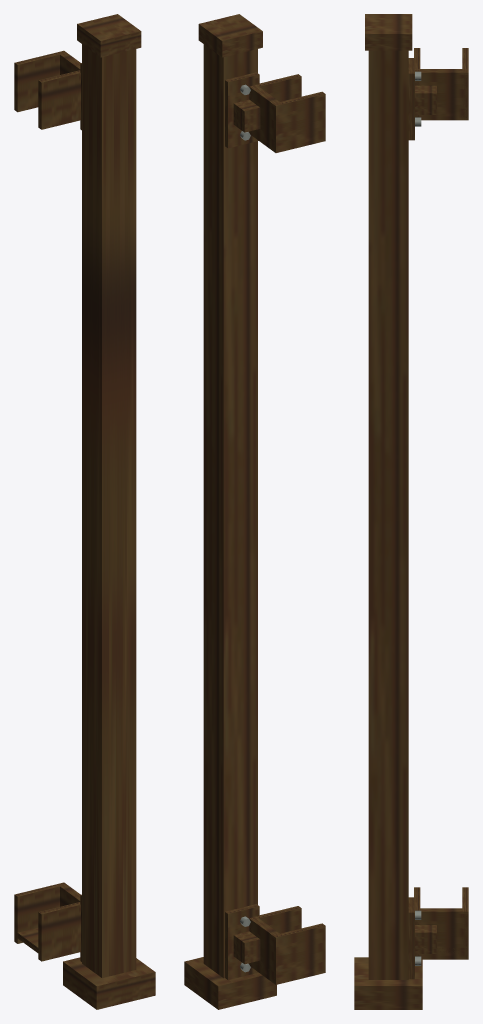
File: SG_Wood_CatcherPost_Reverse.glb
3 renders of one model, left to right at view 1: azimuth 30°, elevation 25°; view 2: azimuth 210°, elevation 25°; view 3: azimuth 270°, elevation 25°, orthographic.
Parts seen in each view (by area): view 1: SG_Wood_2_high_Reverse_SG_Post_Left_Reverse; view 2: SG_Wood_2_high_Reverse_SG_Post_Left_Reverse; view 3: SG_Wood_2_high_Reverse_SG_Post_Left_Reverse.
Part boxes in pixels (x1=…): SG_Wood_2_high_Reverse_SG_Post_Left_Reverse: x1=14, y1=14, x2=155, y2=1009; SG_Wood_2_high_Reverse_SG_Post_Left_Reverse: x1=184, y1=14, x2=325, y2=1009; SG_Wood_2_high_Reverse_SG_Post_Left_Reverse: x1=354, y1=14, x2=468, y2=1009.
Size of the model in its own units: 0.187 by 2.04 by 0.217.
1 material, 1 textured.
